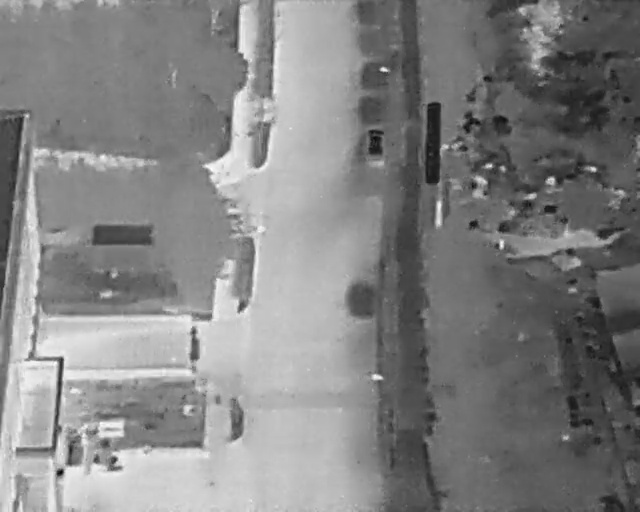Car: (366, 127, 385, 158)
